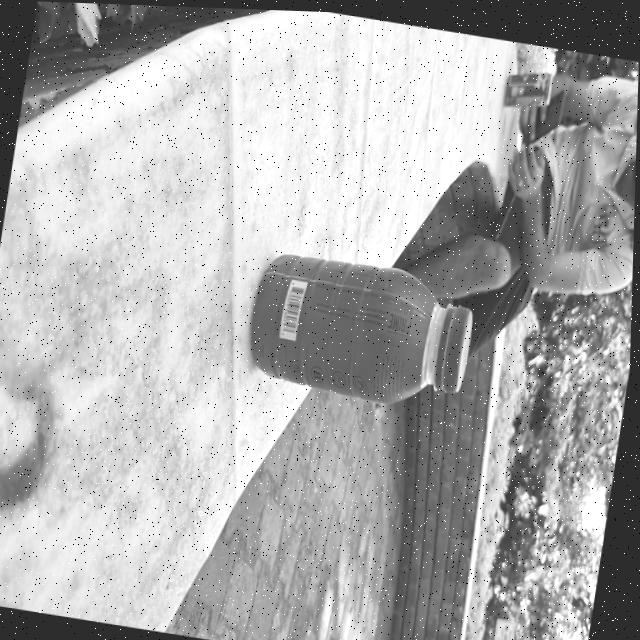Coca Cola: (506, 63, 552, 110)
Prime - Shitass: (248, 247, 484, 416)
